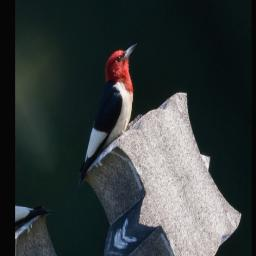Woodpecker: (42, 30, 171, 196)
